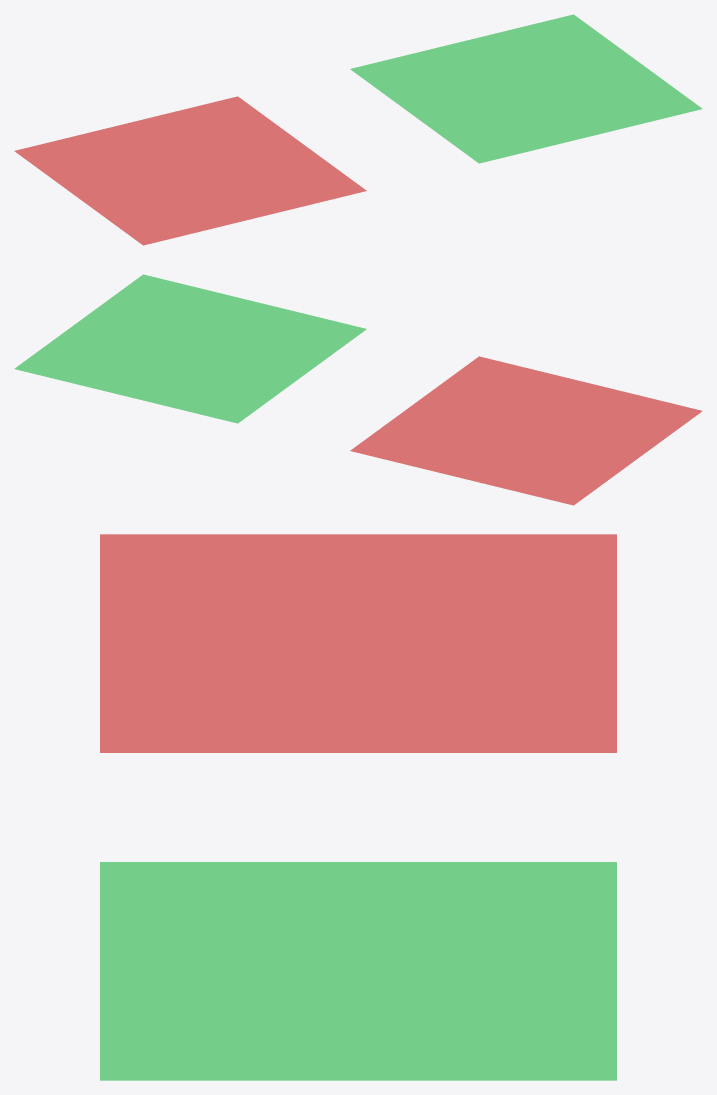
Rendered from PbrScene.gltf.
3 renders of one model, top to bottom at view 1: azimuth 30°, elevation 25°; view 2: azimuth 150°, elevation 25°; view 3: azimuth 270°, elevation 25°, orthographic. The views are drawn at different scales.
Parts seen in each view (by area): view 1: Metal, Plastic; view 2: Metal, Plastic; view 3: Metal, Plastic.
Boxes of the visible parts, x1,y1,x2,y2 form: Metal: [14, 96, 366, 245]; Plastic: [350, 14, 702, 163]; Metal: [350, 356, 702, 505]; Plastic: [14, 274, 366, 423]; Metal: [100, 534, 616, 752]; Plastic: [100, 862, 616, 1080].
Size of the model in its own units: 5 by 0 by 2.
